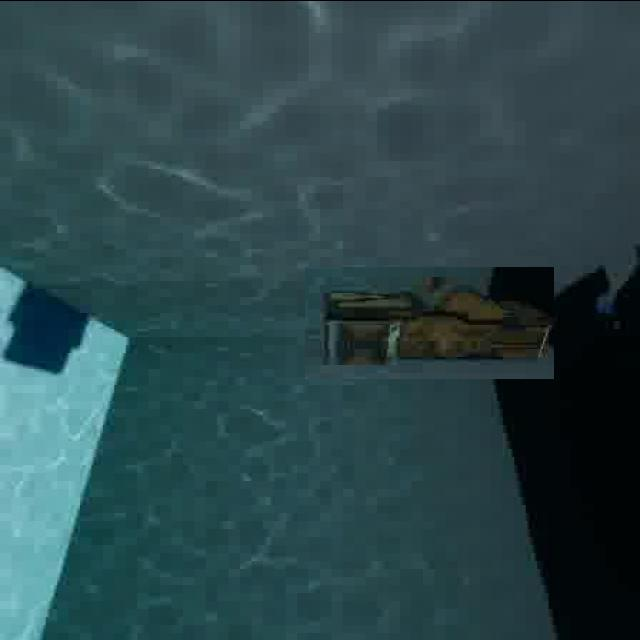Control Panel: (305, 266, 554, 378)
